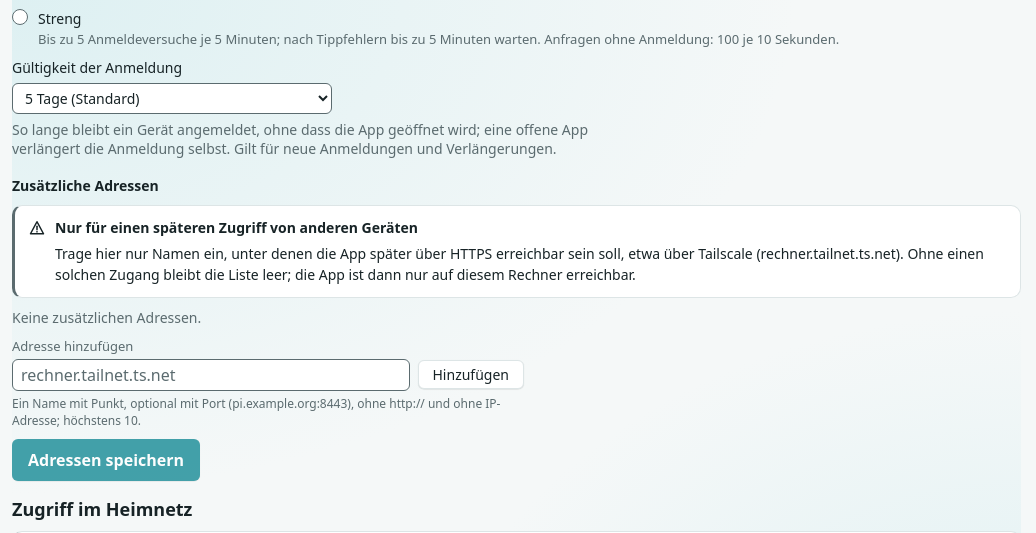
Scenario: page "Sicherheit" › names the refused entries of the server
This screenshot has width=1036, height=533.
(page scrolled)
In the field labelled "Adresse hinzufügen": (211, 375) 12,359 -> 410,391, type "pi.example.org"
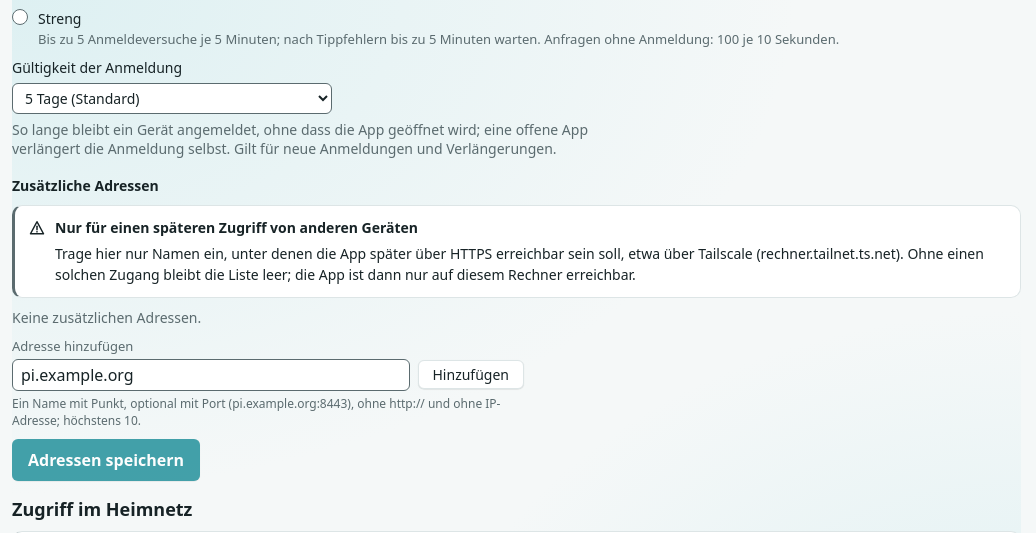
Click the button "Hinzufügen": (471, 375) 418,360 -> 524,389
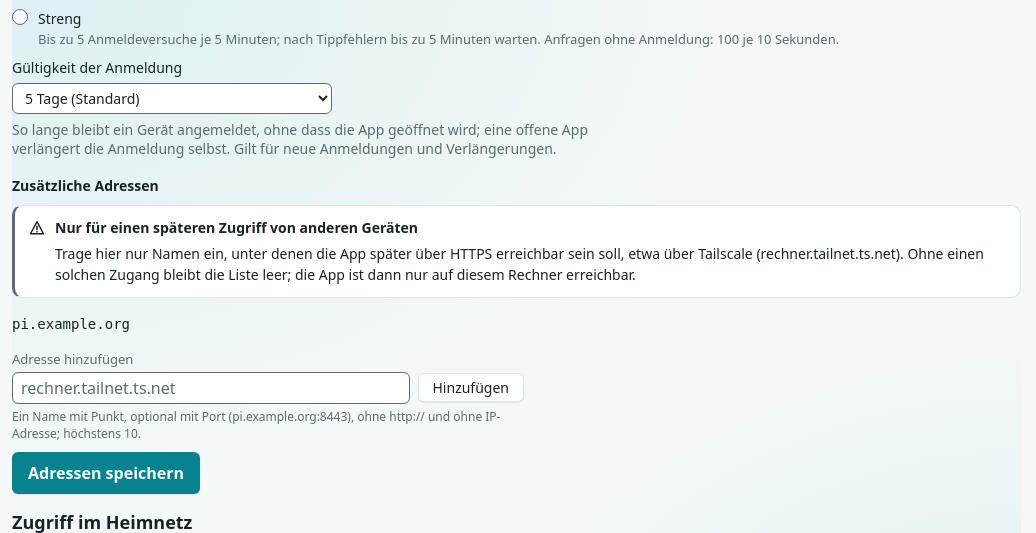
Click the button "Adressen speichern": (106, 473) 12,452 -> 200,494
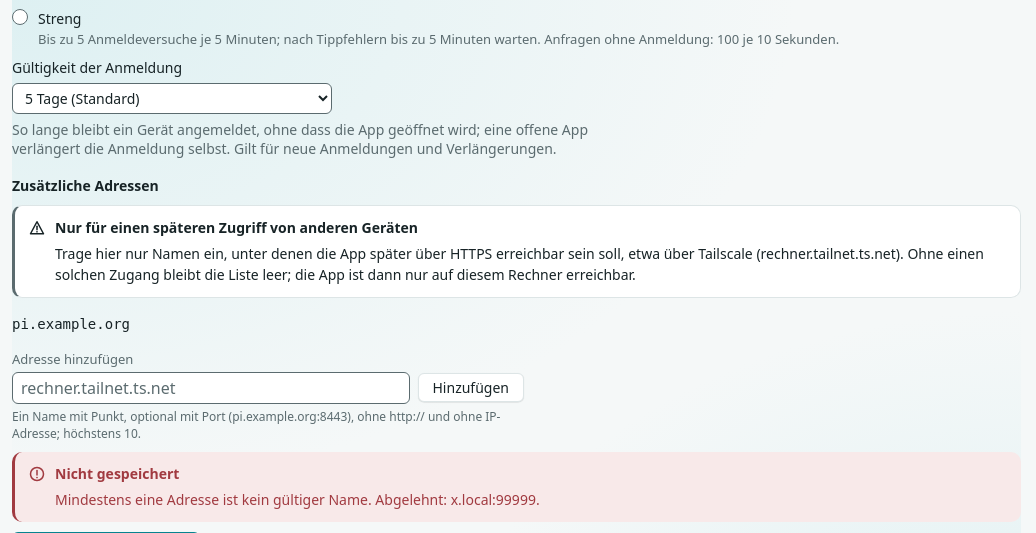
Now the text "Abgelehnt: x.local:99999." is shown, box 375,490 -> 540,509
